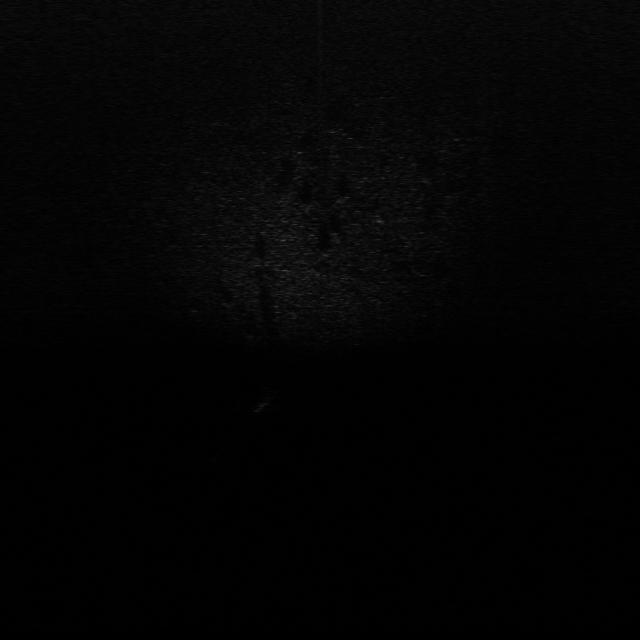human body: (244, 386, 284, 416)
